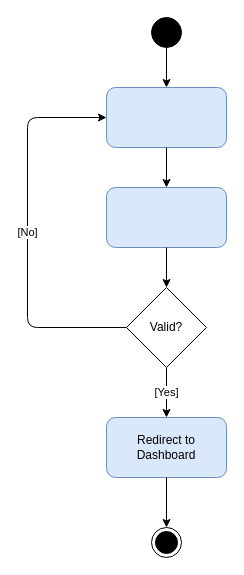
Image size: 244x575. Some labels were removed from this diagram. The centre of each missing label's shape, as x and y in pixels:
Input Username & Password: (166,117)
Submit Login: (166,217)
